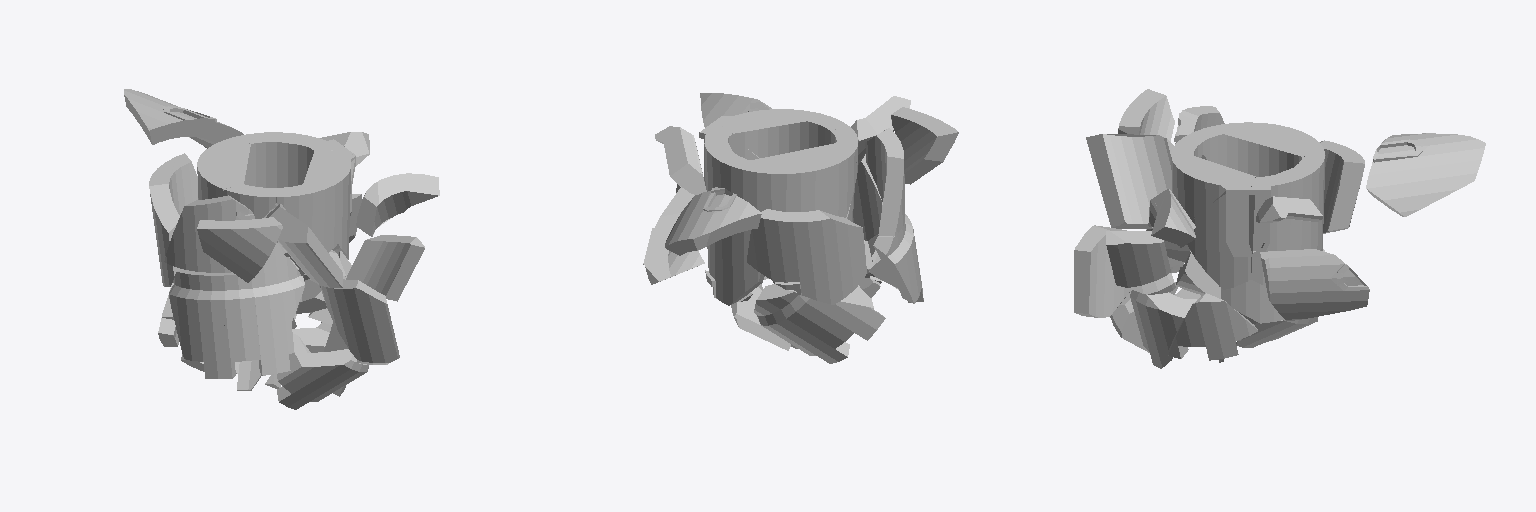
File: destruction_tower_000045.obj
3 views of the same model, side by side, from view 1: azimuth 30°, elevation 25°; view 2: azimuth 150°, elevation 25°; view 3: azimuth 270°, elevation 25° (orthographic).
Parts seen in each view (by area): view 1: tower.001_cell.006_Mesh.006, tower.001_cell.005_Mesh.005, tower.001_cell.028_Mesh.028, tower.001_cell.021_Mesh.021, tower.001_cell.011_Mesh.011, tower.001_cell.002_Mesh.002, tower.001_cell.025_Mesh.025, tower.001_cell.003_Mesh.003, tower.001_cell_Mesh, tower.001_cell.009_Mesh.009, tower.001_cell.017_Mesh.017, tower.001_cell.010_Mesh.010 (+11 smaller); view 2: tower.001_cell.003_Mesh.003, tower.001_cell.015_Mesh.015, tower.001_cell.007_Mesh.007, tower.001_cell.017_Mesh.017, tower.001_cell.028_Mesh.028, tower.001_cell.025_Mesh.025, tower.001_cell.002_Mesh.002, tower.001_cell.009_Mesh.009, tower.001_cell.005_Mesh.005, tower.001_cell.012_Mesh.012, tower.001_cell.016_Mesh.016, tower.001_cell.013_Mesh.013 (+4 smaller); view 3: tower.001_cell.025_Mesh.025, tower.001_cell.024_Mesh.024, tower.001_cell.012_Mesh.012, tower.001_cell.020_Mesh.020, tower.001_cell.015_Mesh.015, tower.001_cell_Mesh, tower.001_cell.030_Mesh.030, tower.001_cell.021_Mesh.021, tower.001_cell.028_Mesh.028, tower.001_cell.017_Mesh.017, tower.001_cell.023_Mesh.023, tower.001_cell.003_Mesh.003 (+10 smaller).
Boxes of the visible parts, x1,y1,x2,y2 form: tower.001_cell.006_Mesh.006: [200, 296, 294, 378]; tower.001_cell.005_Mesh.005: [169, 269, 246, 361]; tower.001_cell.028_Mesh.028: [271, 151, 355, 252]; tower.001_cell.021_Mesh.021: [319, 279, 399, 364]; tower.001_cell.011_Mesh.011: [277, 334, 368, 409]; tower.001_cell.002_Mesh.002: [197, 217, 282, 282]; tower.001_cell.025_Mesh.025: [124, 89, 243, 148]; tower.001_cell.003_Mesh.003: [149, 153, 197, 286]; tower.001_cell_Mesh: [346, 235, 424, 301]; tower.001_cell.009_Mesh.009: [164, 195, 254, 272]; tower.001_cell.017_Mesh.017: [233, 132, 321, 242]; tower.001_cell.010_Mesh.010: [356, 173, 439, 236]; tower.001_cell.003_Mesh.003: [747, 209, 866, 304]; tower.001_cell.015_Mesh.015: [746, 143, 856, 217]; tower.001_cell.007_Mesh.007: [754, 284, 885, 363]; tower.001_cell.017_Mesh.017: [704, 137, 765, 305]; tower.001_cell.028_Mesh.028: [721, 109, 846, 158]; tower.001_cell.025_Mesh.025: [665, 187, 761, 255]; tower.001_cell.002_Mesh.002: [891, 107, 958, 184]; tower.001_cell.009_Mesh.009: [865, 128, 904, 236]; tower.001_cell.005_Mesh.005: [869, 202, 920, 303]; tower.001_cell.012_Mesh.012: [643, 184, 704, 284]; tower.001_cell.016_Mesh.016: [655, 126, 706, 194]; tower.001_cell.013_Mesh.013: [853, 153, 881, 273]; tower.001_cell.025_Mesh.025: [1366, 133, 1485, 216]; tower.001_cell.024_Mesh.024: [1086, 134, 1173, 228]; tower.001_cell.012_Mesh.012: [1260, 249, 1369, 320]; tower.001_cell.020_Mesh.020: [1187, 184, 1254, 289]; tower.001_cell.015_Mesh.015: [1224, 122, 1324, 176]; tower.001_cell_Mesh: [1106, 231, 1175, 294]; tower.001_cell.030_Mesh.030: [1168, 293, 1257, 360]; tower.001_cell.021_Mesh.021: [1074, 225, 1130, 317]; tower.001_cell.028_Mesh.028: [1171, 140, 1255, 220]; tower.001_cell.017_Mesh.017: [1276, 154, 1325, 250]; tower.001_cell.023_Mesh.023: [1130, 289, 1202, 368]; tower.001_cell.003_Mesh.003: [1320, 140, 1364, 233].
Bounding box in the file's own units: 80.09 × 67.39 × 114.